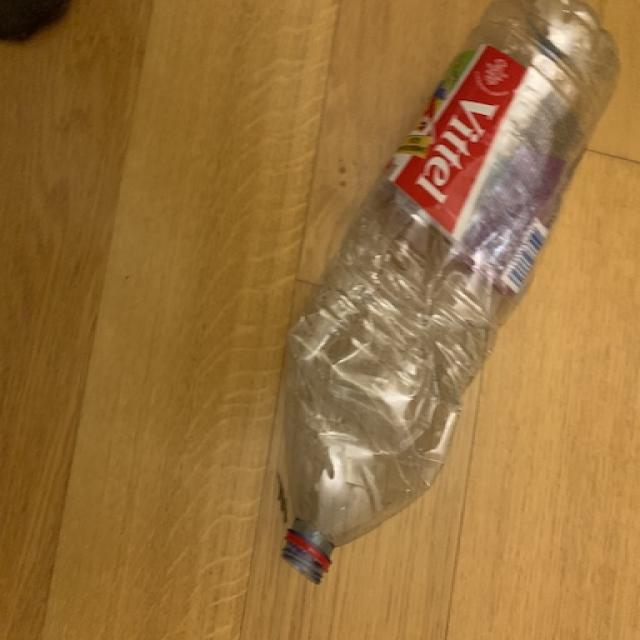plastic_bottle: (275, 0, 619, 585)
